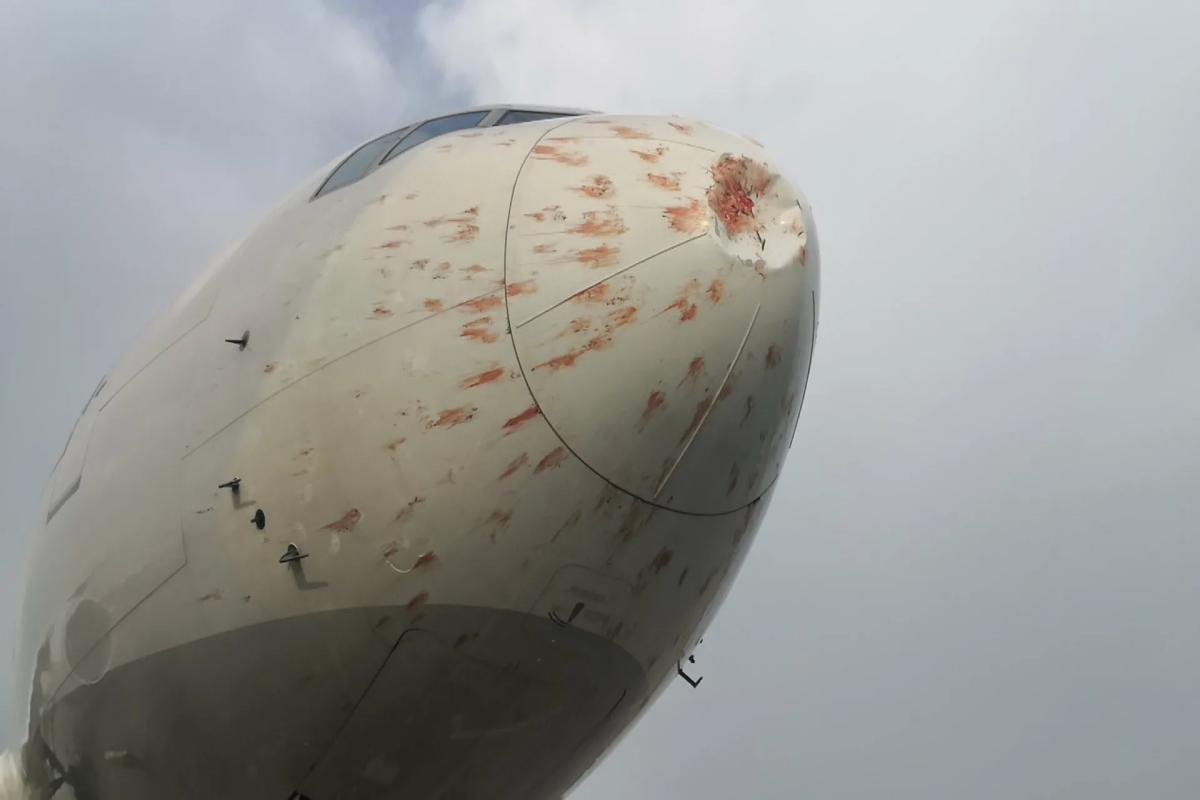Fuselage_damage: (698, 150, 810, 279)
